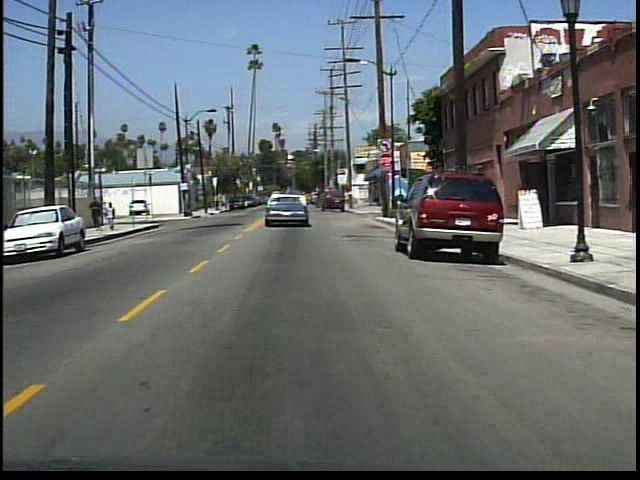person: (91, 195, 107, 232), (107, 200, 120, 232)
